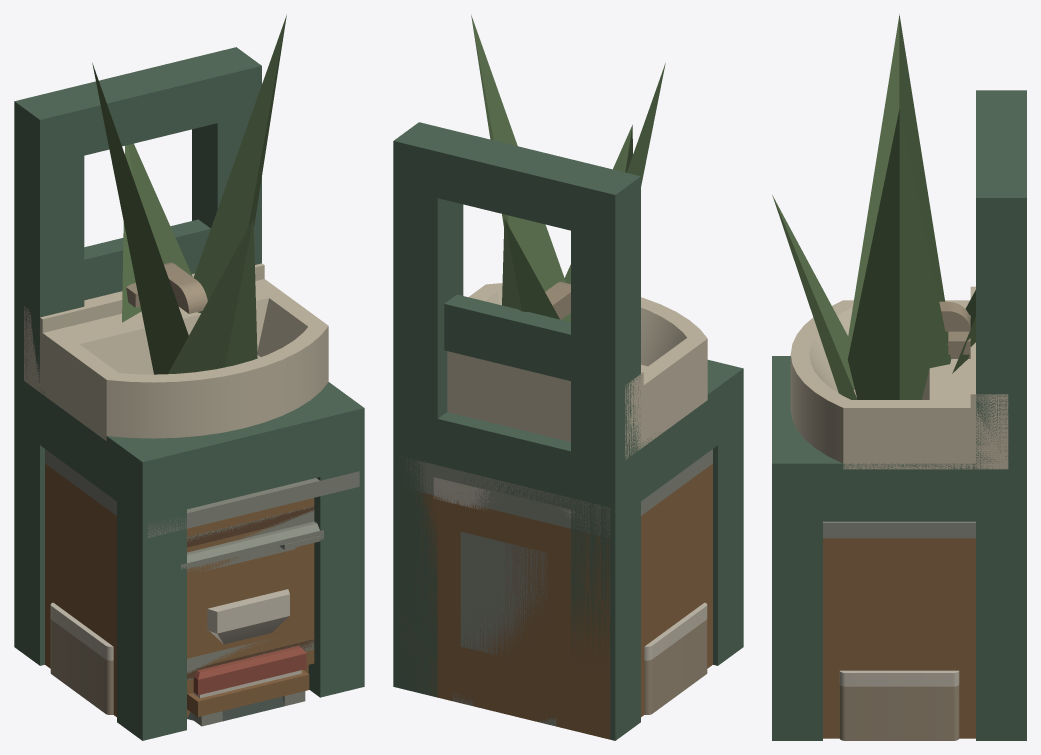
Rendered from homestead-furnishings.glb.
The picture shows the model from 3 angles, left to right: view 1: azimuth 30°, elevation 25°; view 2: azimuth 150°, elevation 25°; view 3: azimuth 270°, elevation 25°; orthographic projection.
Parts seen in each view (by area): view 1: chair, bathroomSink, pottedPlant, kitchenStove, kitchenCabinet, bedSingle, bathtub, toilet, kitchenCoffeeMachine; view 2: chair, kitchenStove, bathroomSink, kitchenCoffeeMachine, pottedPlant, bathtub, bedSingle, toilet; view 3: chair, pottedPlant, kitchenStove, bathroomSink, bathtub.
Boxes of the visible parts, x1=… form: chair: x1=14, y1=47, x2=364, y2=740; bathroomSink: x1=24, y1=262, x2=328, y2=440; pottedPlant: x1=92, y1=14, x2=286, y2=374; kitchenStove: x1=45, y1=449, x2=359, y2=718; kitchenCabinet: x1=187, y1=478, x2=323, y2=680; bedSingle: x1=187, y1=645, x2=309, y2=726; bathtub: x1=50, y1=602, x2=113, y2=714; toilet: x1=207, y1=589, x2=289, y2=644; kitchenCoffeeMachine: x1=187, y1=696, x2=284, y2=721; chair: x1=393, y1=122, x2=743, y2=740; kitchenStove: x1=398, y1=449, x2=712, y2=739; bathroomSink: x1=447, y1=282, x2=707, y2=459; kitchenCoffeeMachine: x1=460, y1=531, x2=548, y2=657; pottedPlant: x1=471, y1=14, x2=665, y2=321; bathtub: x1=644, y1=602, x2=707, y2=714; bedSingle: x1=448, y1=623, x2=556, y2=726; toilet: x1=433, y1=477, x2=574, y2=517; chair: x1=772, y1=90, x2=1026, y2=740; pottedPlant: x1=772, y1=14, x2=975, y2=399; kitchenStove: x1=823, y1=521, x2=975, y2=738; bathroomSink: x1=790, y1=286, x2=1008, y2=469; bathtub: x1=839, y1=670, x2=959, y2=740.
Size of the model in its own units: 1 by 2.71 by 1.
